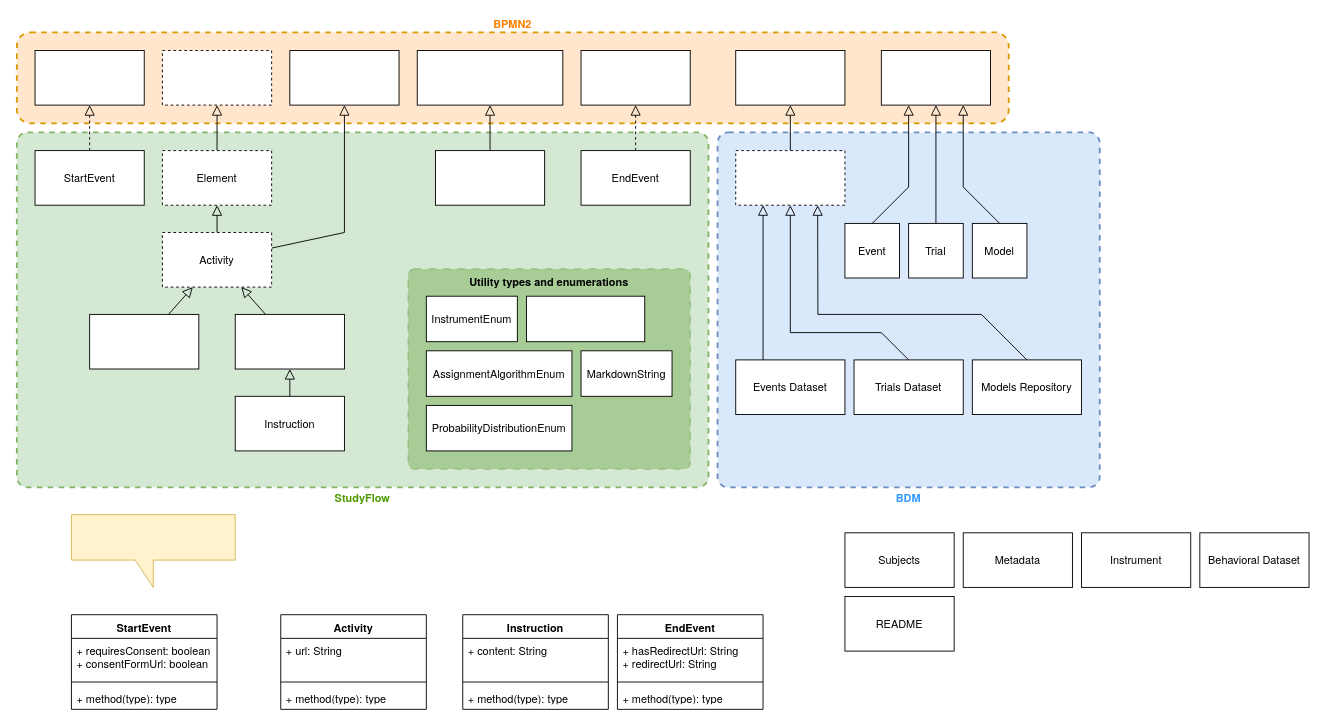
The diagram is 1325 pixels wide and 727 high, and some of its shapes have lost their labels. Here are the shapes that lost their labels. From the top down, the centre of each, then its label:
At pixel 89 77: "bpmn:StartEvent".
At pixel 217 77: "bpmn:BaseElement".
At pixel 344 77: "bpmn:Task".
At pixel 489 77: "bpmn2:ExclusiveGateway".
At pixel 635 77: "bpmn:EndEvent".
At pixel 790 77: "bpmn:DataStore".
At pixel 935 77: "bpmn:DataObject".
At pixel 490 177: "RandomGateway".
At pixel 790 177: "Dataset".
At pixel 585 318: "BehaverseTaskEnum".
At pixel 144 341: "CognitiveTest".
At pixel 289 341: "Questionnaire".
At pixel 153 550: "TODO: fields and types".
